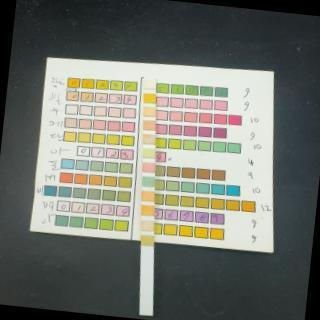mark: (142, 220, 154, 232), (142, 191, 154, 202), (142, 162, 154, 173), (144, 133, 155, 145), (143, 120, 155, 131), (142, 206, 153, 217), (142, 176, 153, 187), (142, 236, 154, 246), (144, 79, 156, 89), (144, 107, 156, 116), (144, 94, 156, 103), (143, 149, 154, 158)
